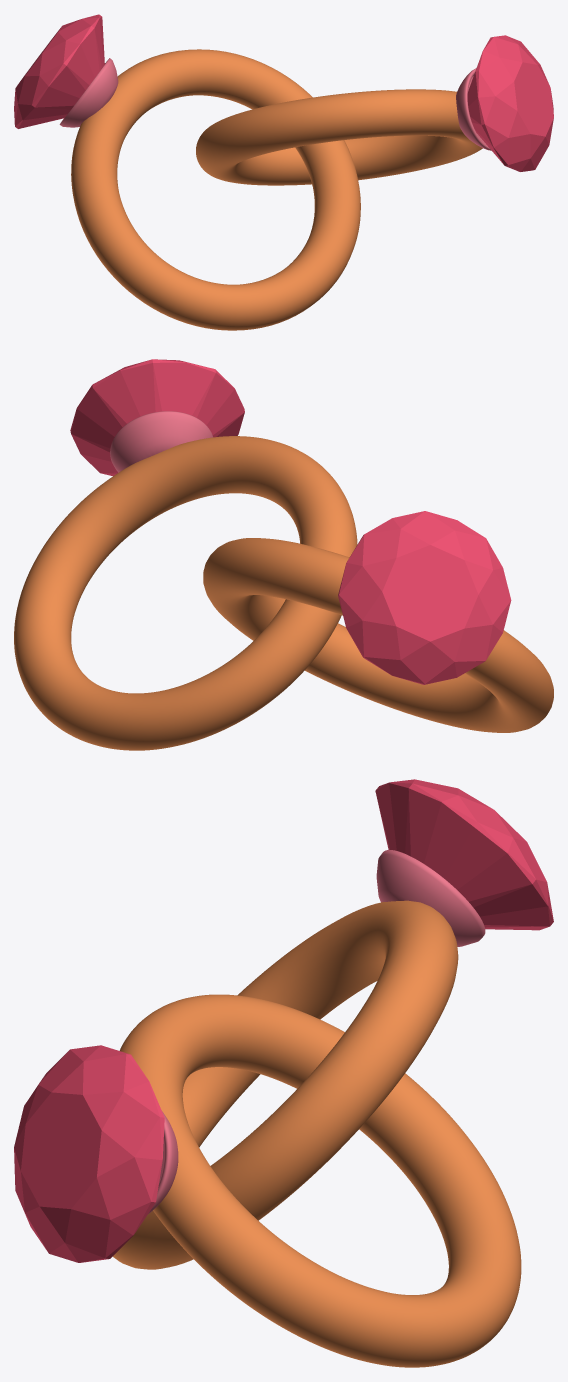
The model's file is relationship-ring-3d-animated-icon-667511243543.glb.
3 renders of one model, top to bottom at view 1: azimuth 30°, elevation 25°; view 2: azimuth 150°, elevation 25°; view 3: azimuth 270°, elevation 25°, orthographic. The views are drawn at different scales.
Visible parts, largest first — view 1: ring 1, ring 2, diamond 2, diamond 1; view 2: ring 2, ring 1, diamond 1, diamond 2; view 3: ring 2, ring 1, diamond 2, diamond 1.
Part boxes in pixels (x1=…): ring 1: x1=59, y1=49, x2=360, y2=330; ring 2: x1=196, y1=68, x2=491, y2=185; diamond 2: x1=467, y1=35, x2=553, y2=171; diamond 1: x1=14, y1=14, x2=104, y2=128; ring 2: x1=14, y1=411, x2=357, y2=750; ring 1: x1=203, y1=538, x2=553, y2=732; diamond 1: x1=338, y1=511, x2=511, y2=684; diamond 2: x1=70, y1=359, x2=244, y2=475; ring 2: x1=119, y1=994, x2=521, y2=1367; ring 1: x1=113, y1=850, x2=485, y2=1269; diamond 2: x1=14, y1=1045, x2=164, y2=1262; diamond 1: x1=375, y1=779, x2=553, y2=930.
Bounding box in the file's own units: 2.98 × 1.66 × 2.04.
